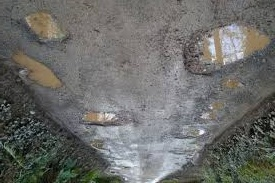pothole: (168, 26, 268, 78), (7, 49, 62, 93), (22, 11, 66, 47), (78, 109, 126, 126), (213, 78, 249, 91), (89, 136, 109, 151), (173, 126, 206, 135), (196, 110, 218, 121), (209, 100, 224, 111), (169, 147, 192, 154)
